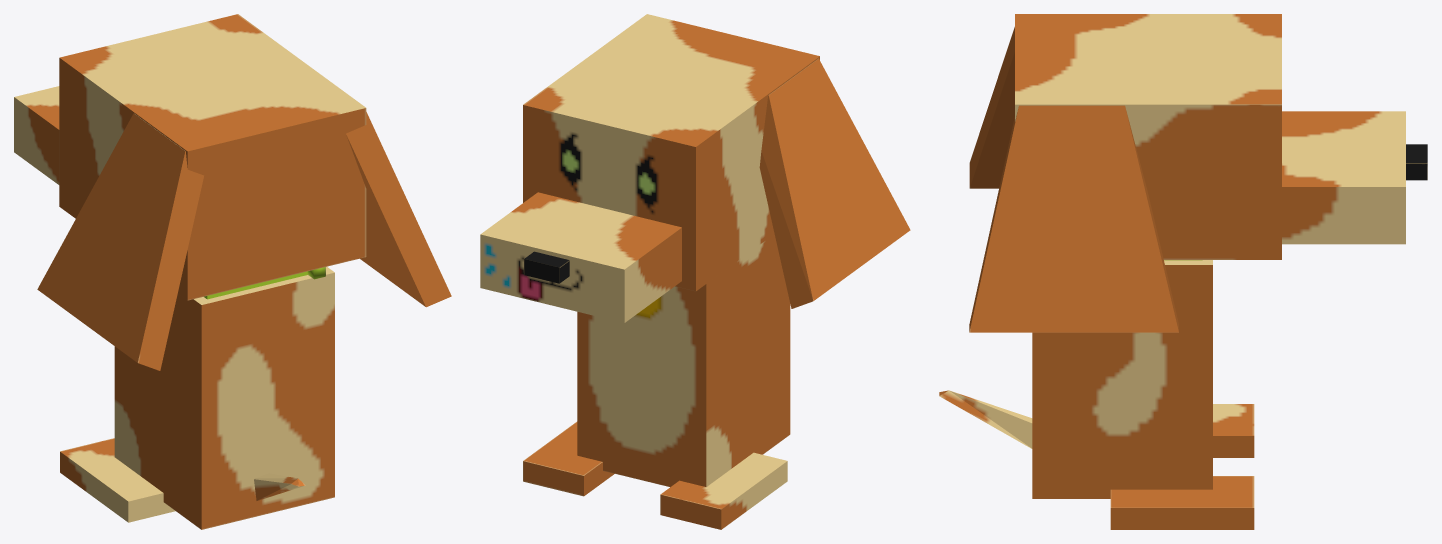
The model's file is dog.dae.
3 views of the same model, side by side, from view 1: azimuth 30°, elevation 25°; view 2: azimuth 150°, elevation 25°; view 3: azimuth 270°, elevation 25° (orthographic). The views are drawn at different scales.
Parts seen in each view (by area): view 1: Cube; view 2: Cube; view 3: Cube.
Boxes of the visible parts, x1,y1,x2,y2 form: Cube: (14,14,451,529); Cube: (480,14,910,529); Cube: (939,14,1427,529).
Size of the model in its own units: 2.91 by 3.76 by 3.56.
